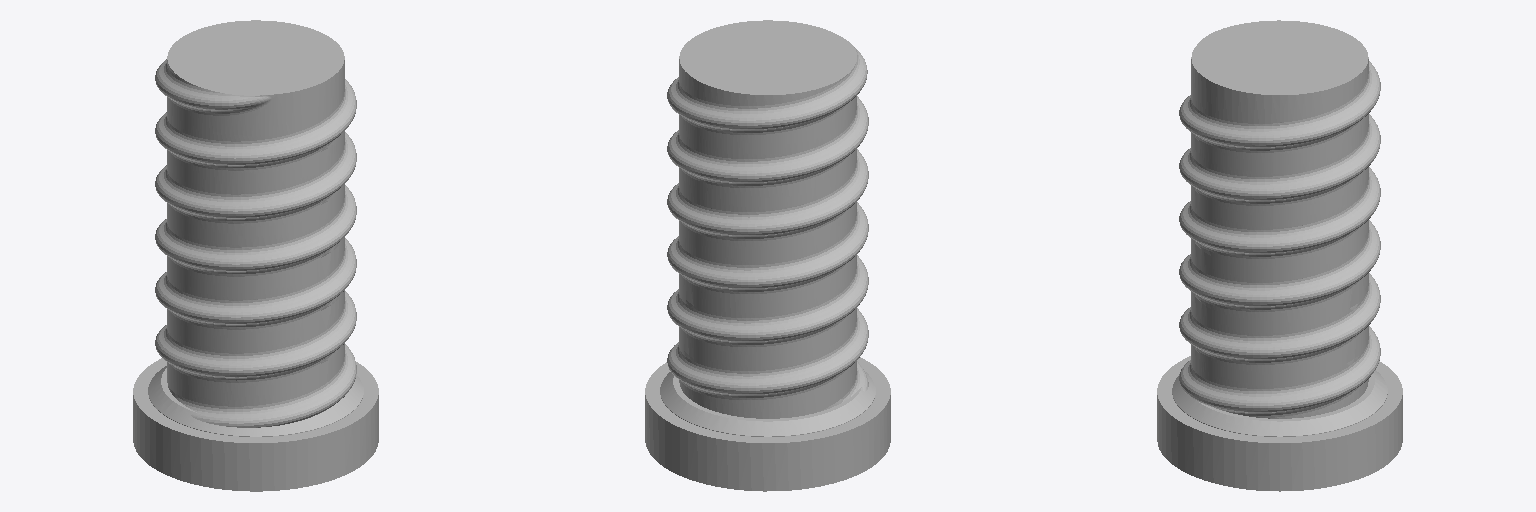
The robot description file, URDF, robot "root":
<?xml version='1.0' encoding='utf-8'?>
<robot name="root">
  <link name="link_001">
    <visual>
      <origin xyz="0 0 0" rpy="0 0 0" />
      <geometry>
        <mesh filename="100eeae5c27841cfaedd2b3a3f7eacdf1259640bfacf3d7eede2183892bc016d_scale_000.stl" scale="1.0000E+00 1.0000E+00 1.0000E+00" />
      </geometry>
      <material name="">
        <color rgba="7.50E-01 7.50E-01 7.50E-01 1" />
      </material>
    </visual>
    <collision>
      <origin xyz="0 0 0" rpy="0 0 0" />
      <geometry>
        <mesh filename="100eeae5c27841cfaedd2b3a3f7eacdf1259640bfacf3d7eede2183892bc016d_scale_000.stl" scale="1.0000E+00 1.0000E+00 1.0000E+00" />
      </geometry>
    </collision>
  </link>
</robot>

--- Render facts (derived) ---
3 views of the same robot in one strip: view 1: azimuth 30°, elevation 25°; view 2: azimuth 150°, elevation 25°; view 3: azimuth 270°, elevation 25° (orthographic).
Robot: root — 1 links, 0 joints (none); root link link_001; default pose: all joints at 0.
Links seen in each view (by area): view 1: link_001; view 2: link_001; view 3: link_001.
Link boxes in pixels (x1=…): link_001: x1=133, y1=20, x2=378, y2=491; link_001: x1=645, y1=20, x2=890, y2=491; link_001: x1=1157, y1=20, x2=1402, y2=491.
Bounding box of the posed robot: 0.07 × 0.07 × 0.12 m (x, y, z).
1 mesh visuals loaded from 1 distinct referenced files (1 binary STL).
